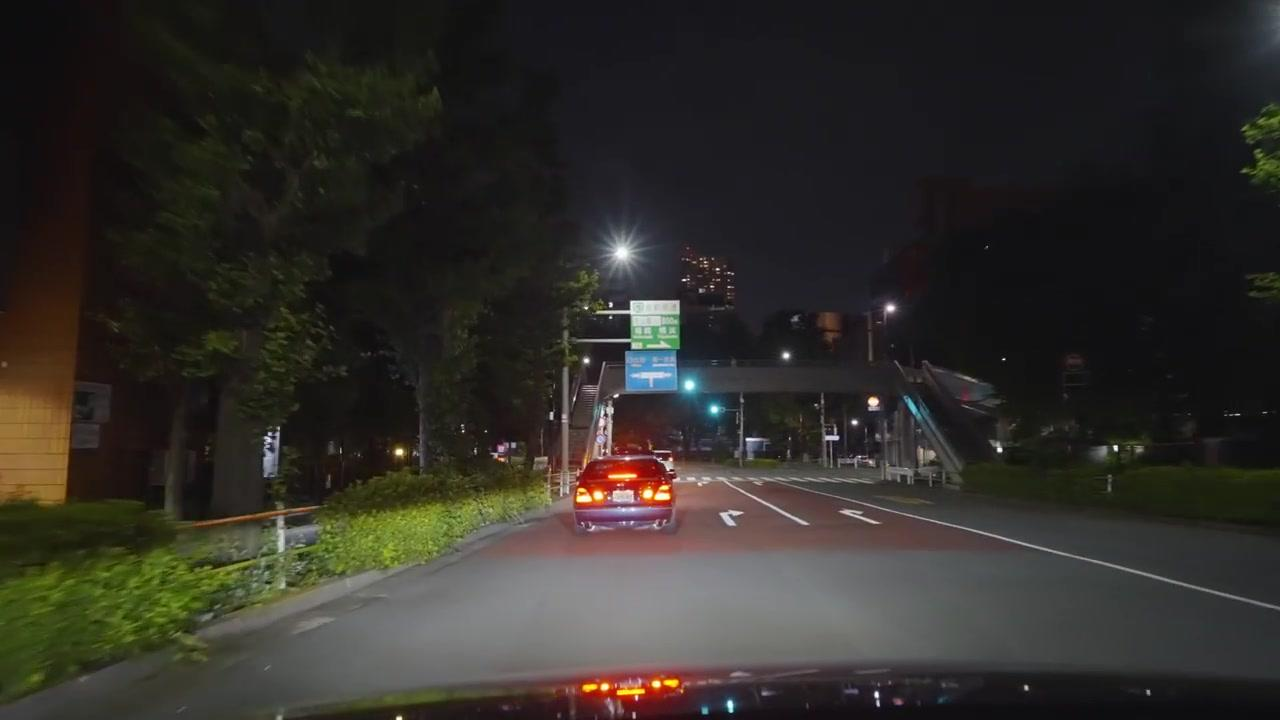car: (572, 455, 680, 534), (650, 450, 676, 478), (841, 454, 877, 467)
traffic light: (707, 400, 723, 420), (681, 374, 697, 393)
